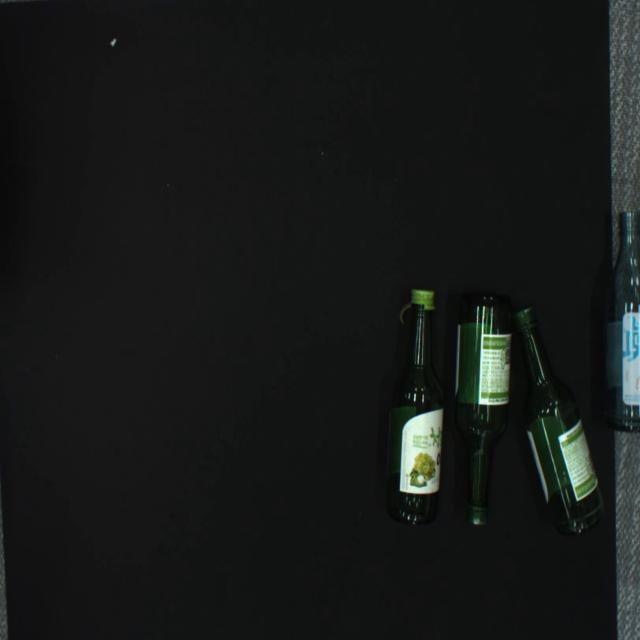soju-bottle: (514, 305, 605, 534), (385, 289, 445, 526), (454, 294, 513, 525), (603, 212, 640, 433)
